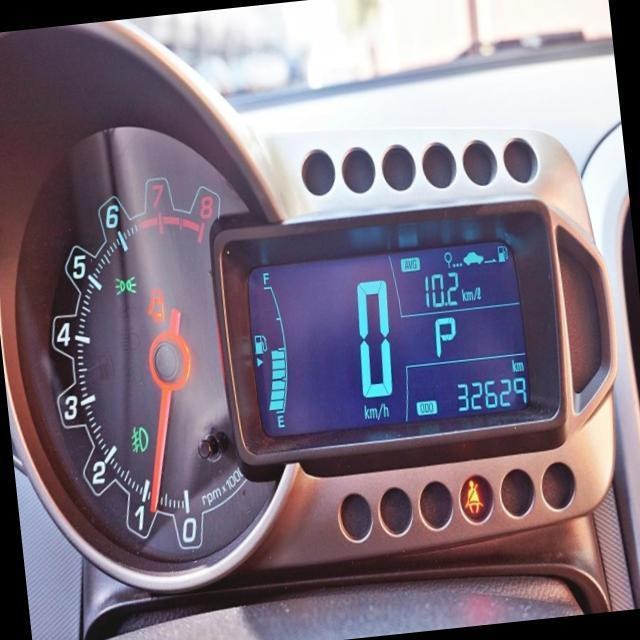FrontFogLight: (128, 422, 148, 452)
SideLamp: (112, 272, 136, 296)
